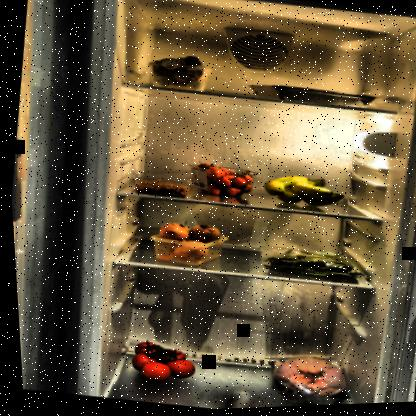banana: (256, 170, 347, 215)
chicken: (261, 350, 354, 408)
green_beans: (257, 243, 367, 287)
mushrooms: (145, 50, 212, 95)
onion: (149, 217, 225, 269)
shrimp: (127, 175, 186, 201)
strawberries: (183, 159, 254, 203)
tomato: (120, 336, 200, 392)
